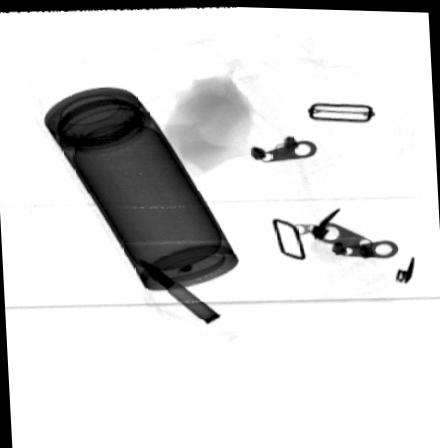Bullet: (135, 257, 221, 324)
